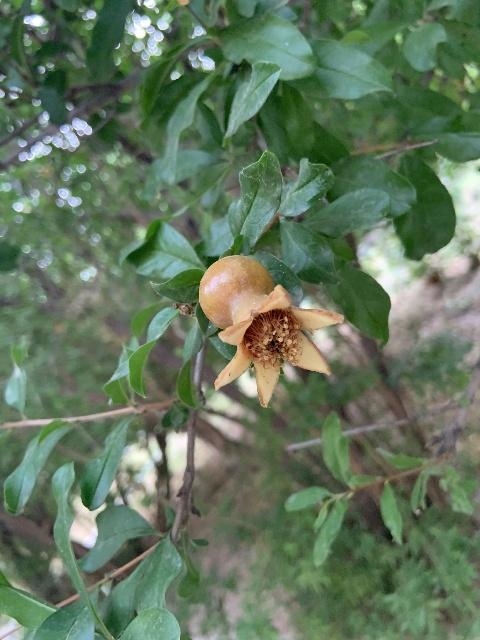early-fruit: (198, 255, 344, 409)
